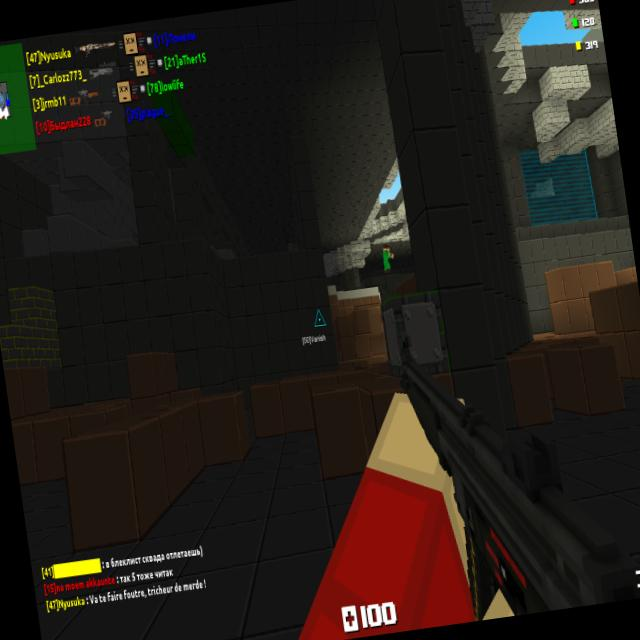enemy: (379, 243, 396, 274)
